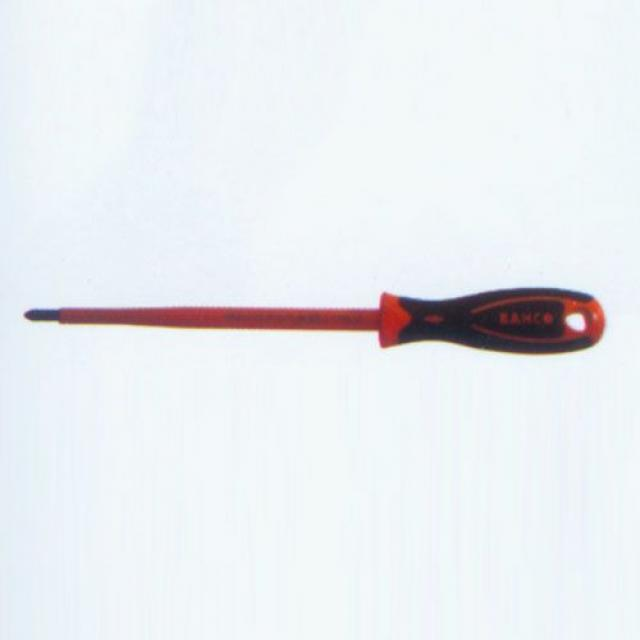screwdriver: (18, 280, 614, 365)
